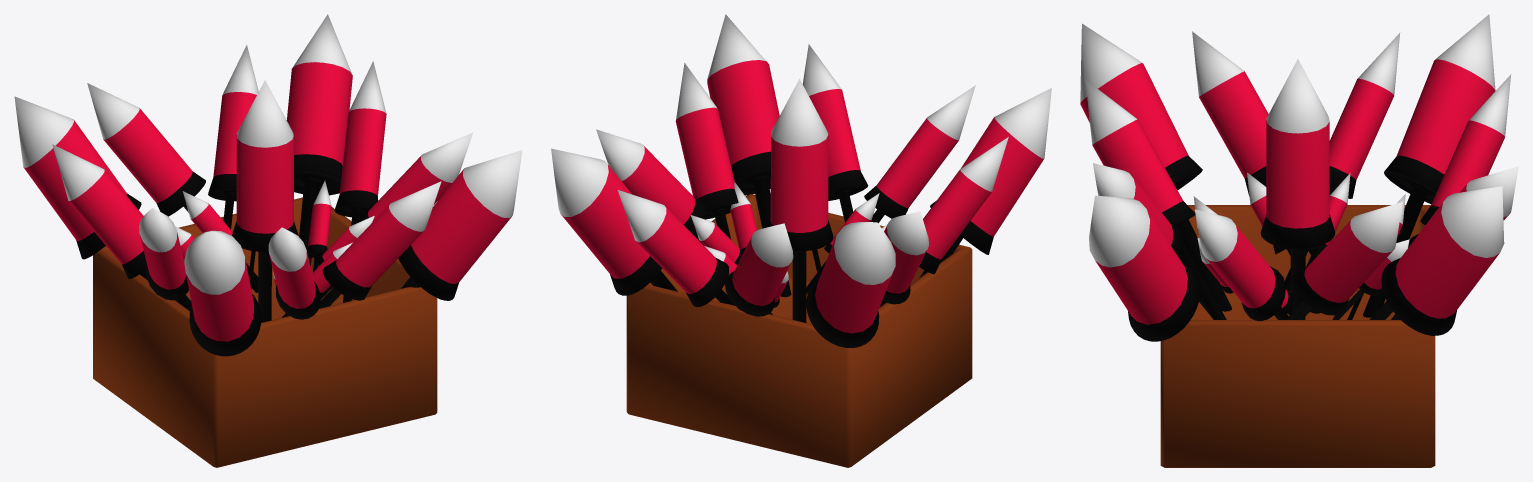
File: unti1tled.fbx
3 views of the same model, side by side, from view 1: azimuth 30°, elevation 25°; view 2: azimuth 150°, elevation 25°; view 3: azimuth 270°, elevation 25° (orthographic). The views are drawn at different scales.
Parts seen in each view (by area): view 1: Cone; view 2: Cone; view 3: Cone.
Boxes of the visible parts, x1,y1,x2,y2 form: Cone: (14,14,522,467); Cone: (551,14,1051,467); Cone: (1080,14,1518,467).
Size of the model in its own units: 191 by 173 by 196.
